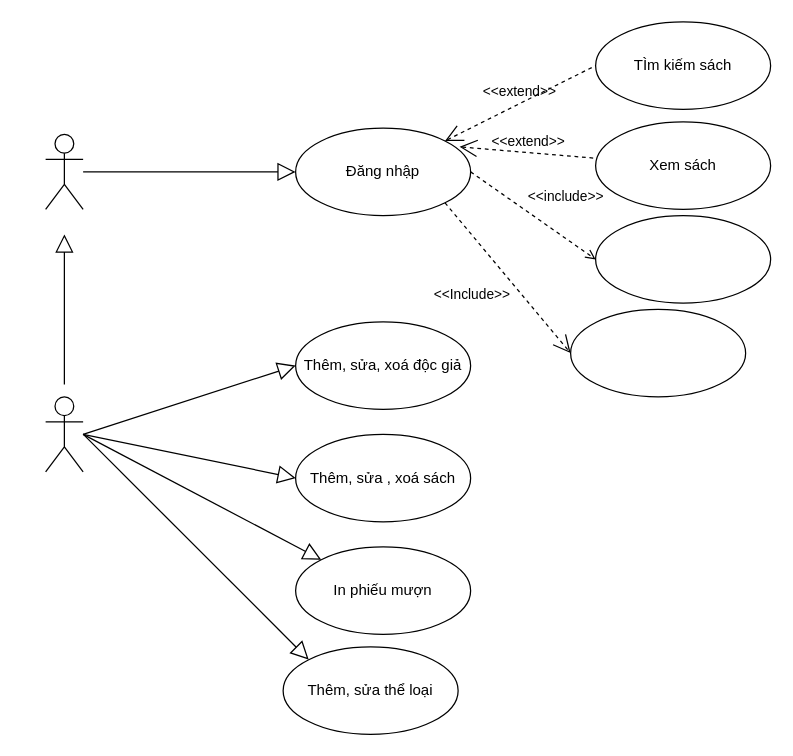
The diagram is 793 pixels wide and 756 high, and some of its shapes have lost their labels. Here are the shapes that lost their labels. From the top down, the centre of each, then its label:
[63,171]: Độc giả
[682,258]: Chỉnh sửa thông tin
[657,352]: Mượn sách
[63,434]: Quản trị viên
